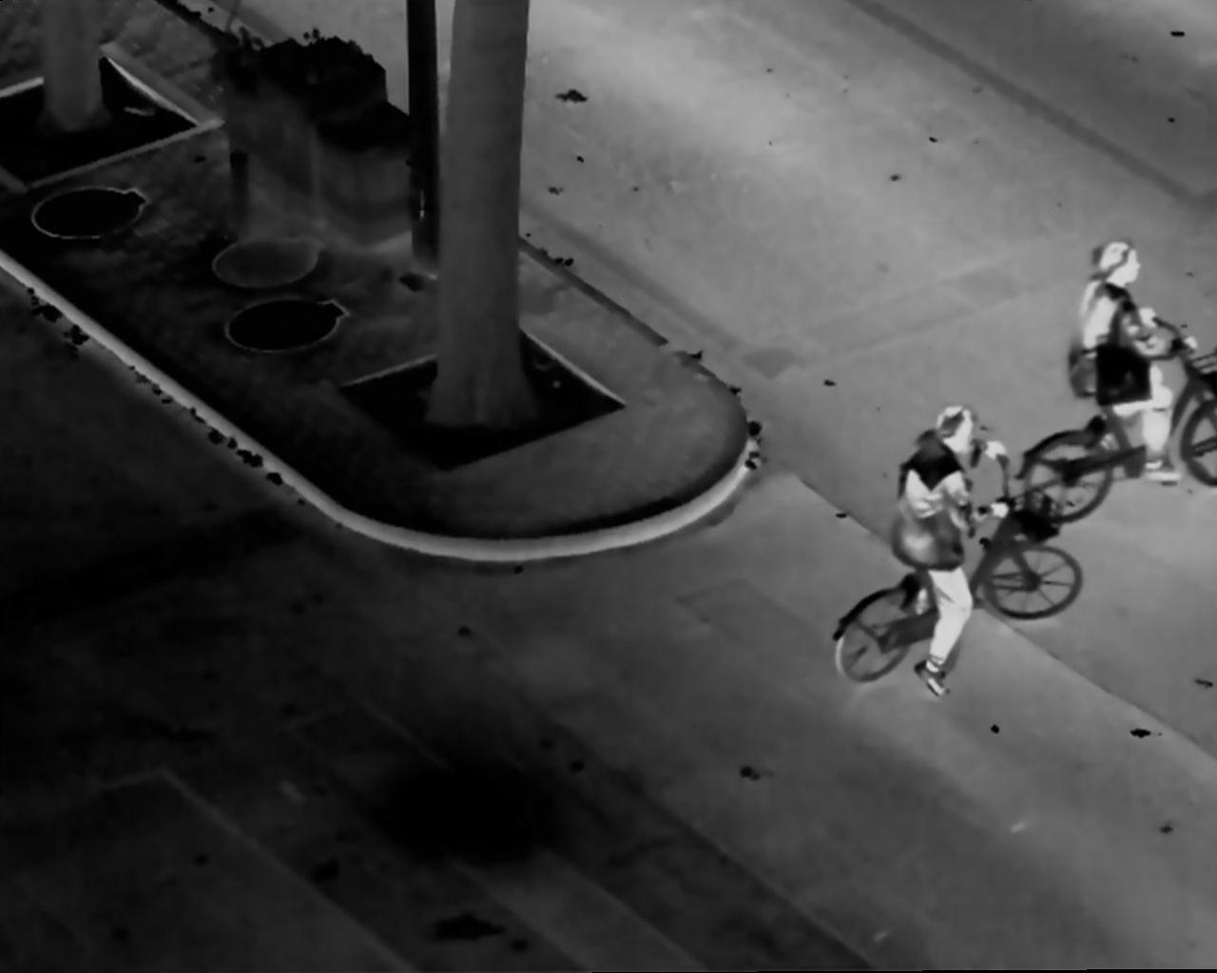person: (897, 398, 1019, 708), (1072, 237, 1203, 499)
